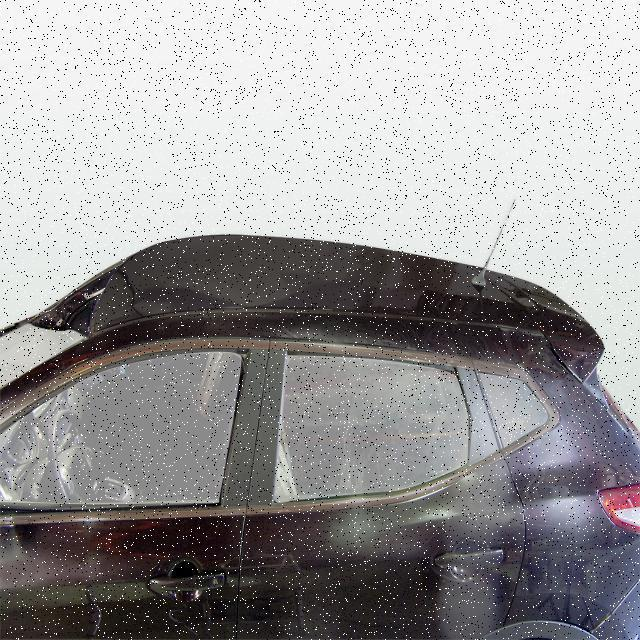roof-dent: (11, 234, 463, 376)
